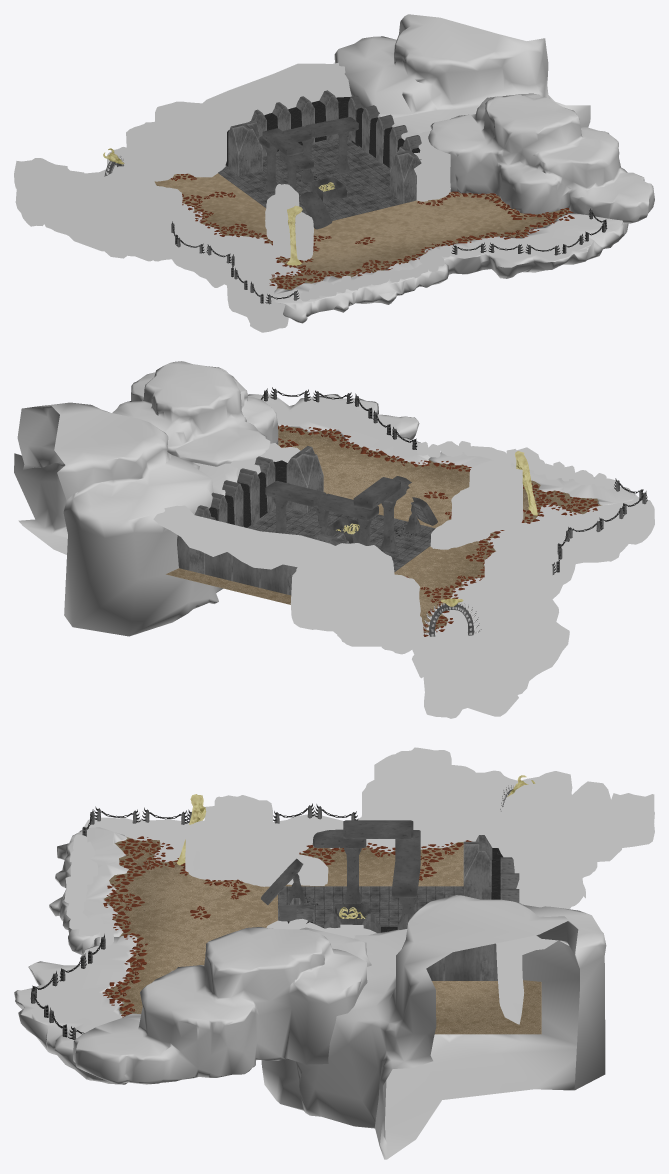
3 renders of one model, top to bottom at view 1: azimuth 30°, elevation 25°; view 2: azimuth 150°, elevation 25°; view 3: azimuth 270°, elevation 25°, orthographic. The views are drawn at different scales.
Parts seen in each view (by area): view 1: polySurface602; view 2: polySurface602; view 3: polySurface602.
Boxes of the visible parts, x1,y1,x2,y2 form: polySurface602: (14,14,654,332); polySurface602: (14,361,654,718); polySurface602: (14,747,654,1159).
Size of the model in its own units: 540 by 132 by 438.
